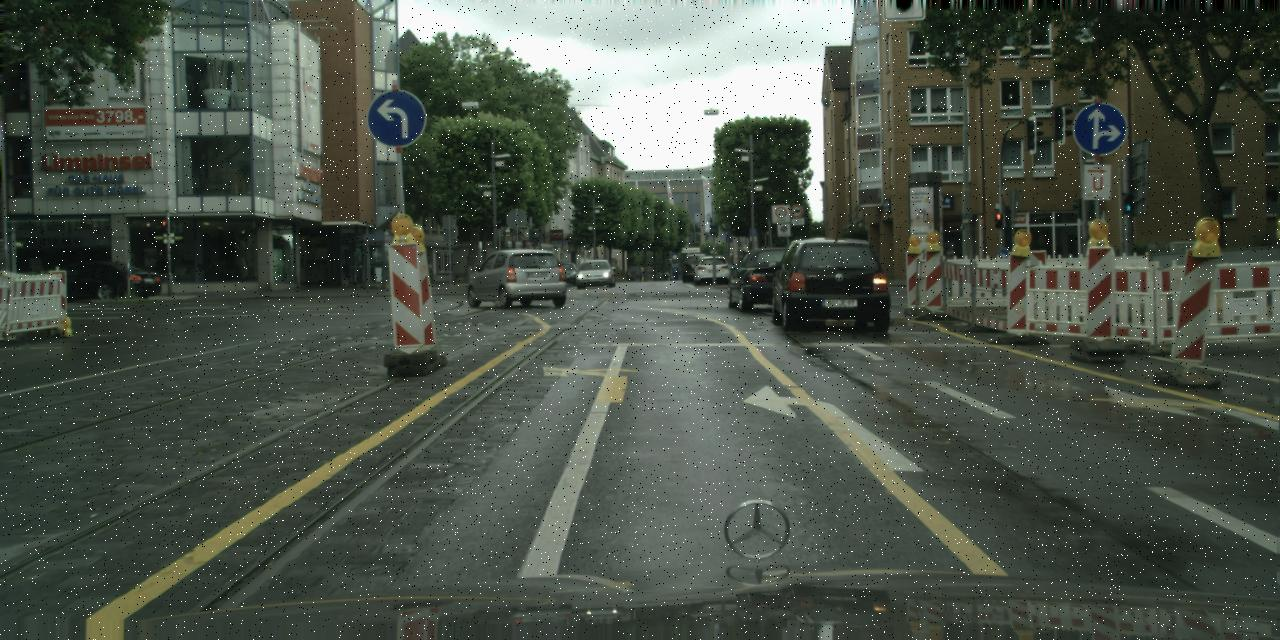ped: (637, 268, 642, 282), (626, 268, 630, 280)
